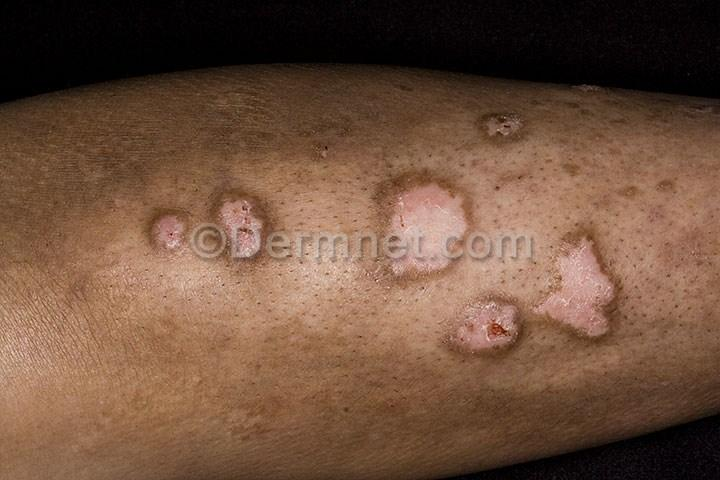Eczema: (360, 168, 496, 288), (533, 214, 637, 356), (146, 180, 279, 284), (442, 277, 535, 366), (455, 107, 550, 157)
